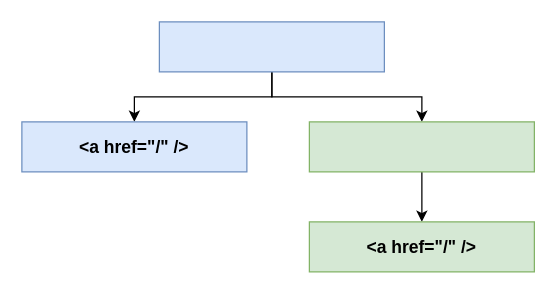
Some shapes in this 556 by 294 pixel diagram are drawn without their labels. The centre of each missing label's shape, as x and y in pixels:
Container Router: the point at 271,46
Marketing Router: the point at 421,146
